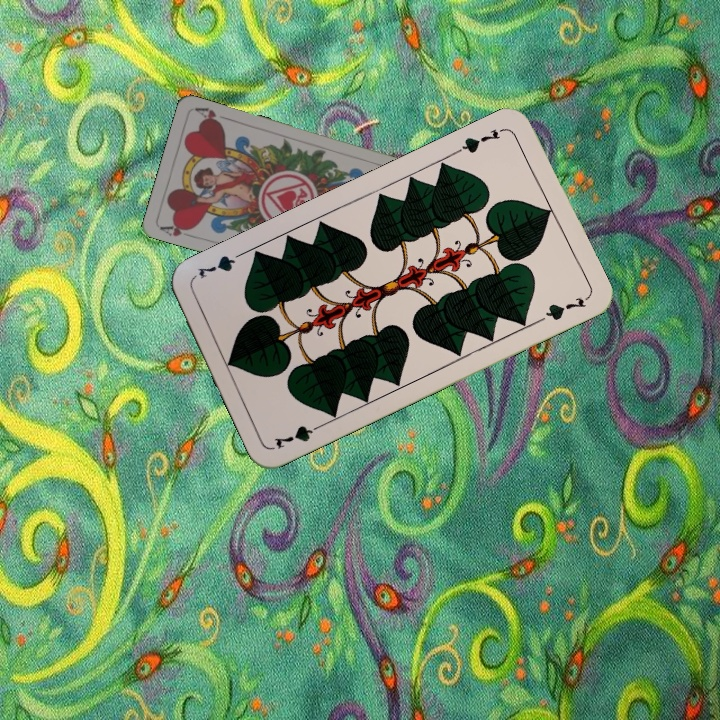G7: (270, 418, 328, 451), (452, 124, 508, 156)
HA: (156, 219, 196, 239)
